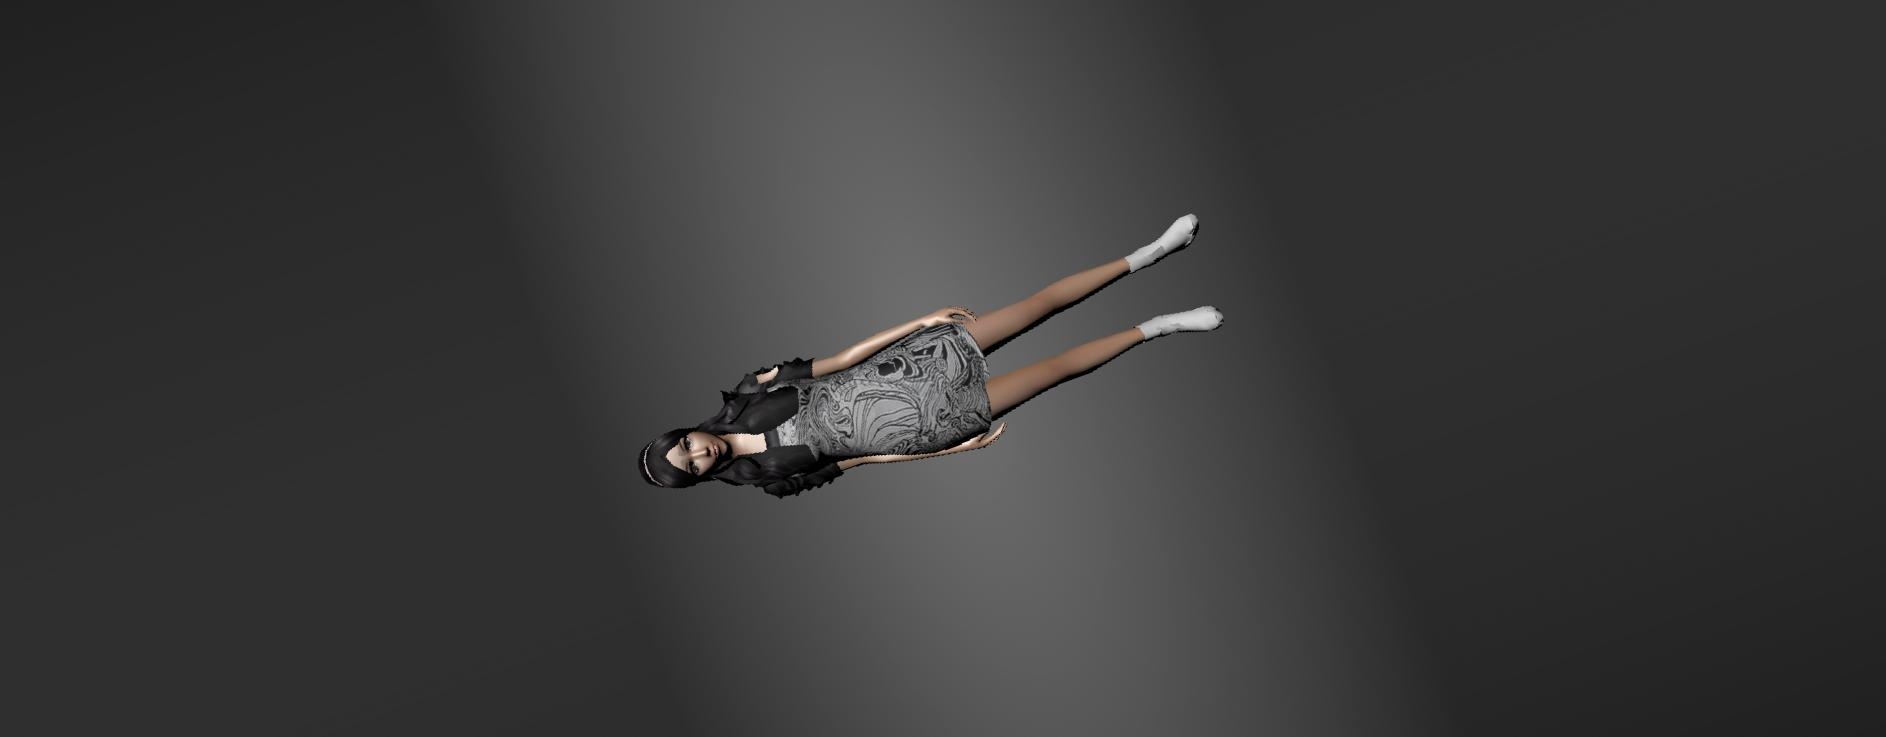clip: (754, 372, 779, 380)
